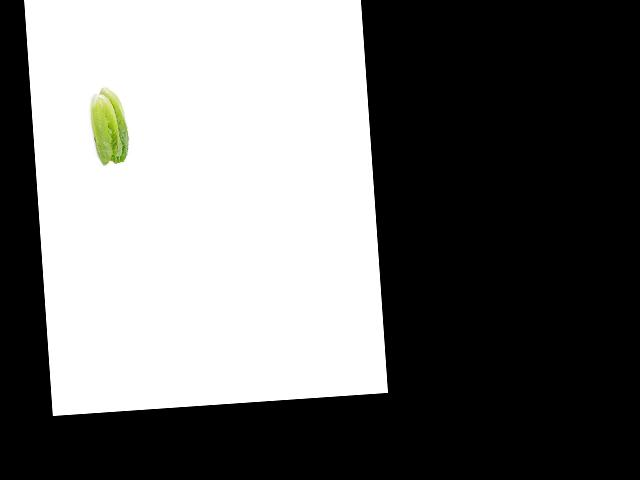lettuce: (84, 86, 130, 167)
